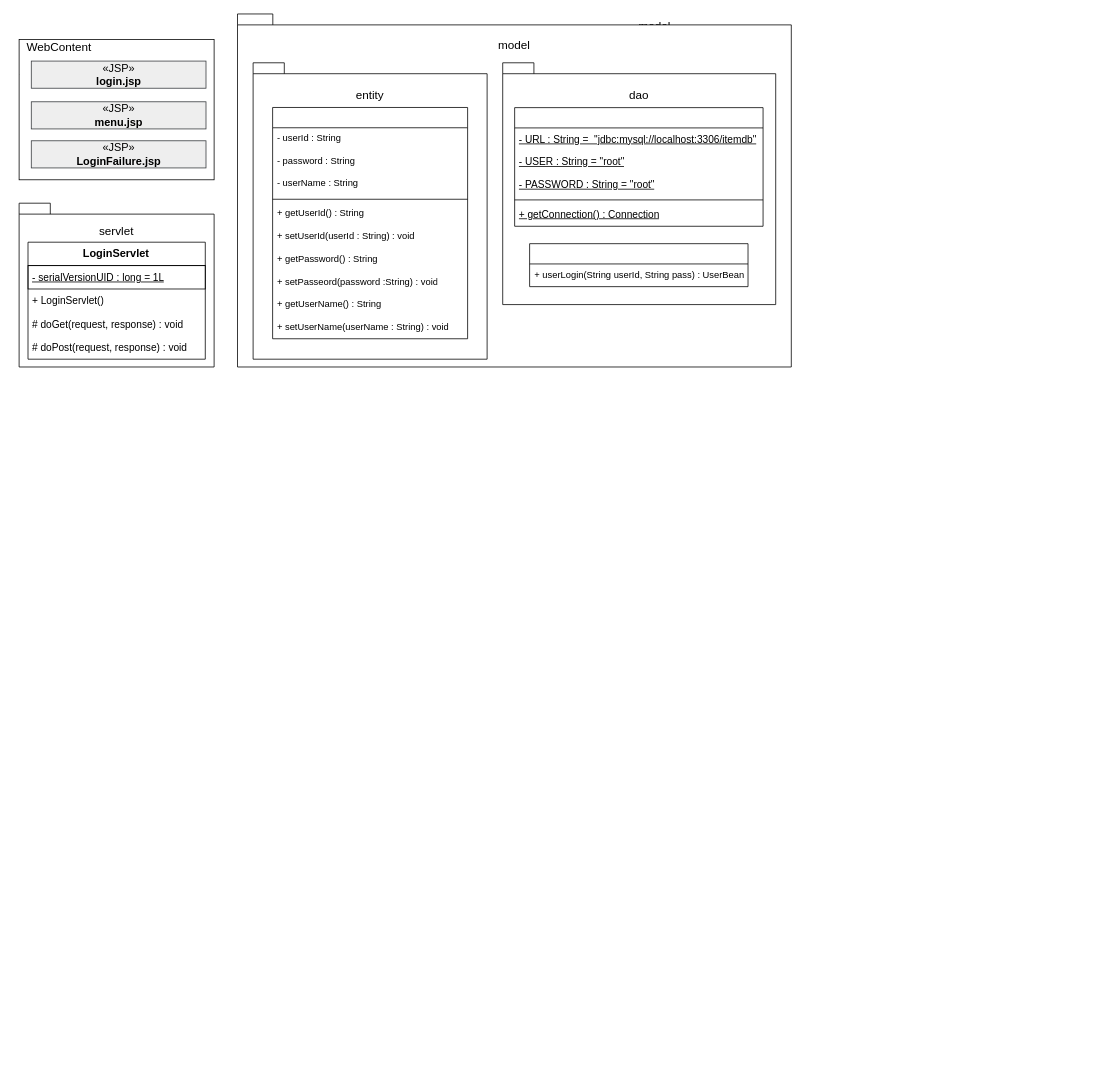
The diagram is 1117 pixels wide and 1075 high, and some of its shapes have lost their labels. The box of each missing label's shape, as (x1, y1, x2, y2) in pixels:
ConnectionManager: (514, 107, 763, 226)
UserBean: (272, 107, 468, 339)
UserDAO: (529, 243, 748, 287)
